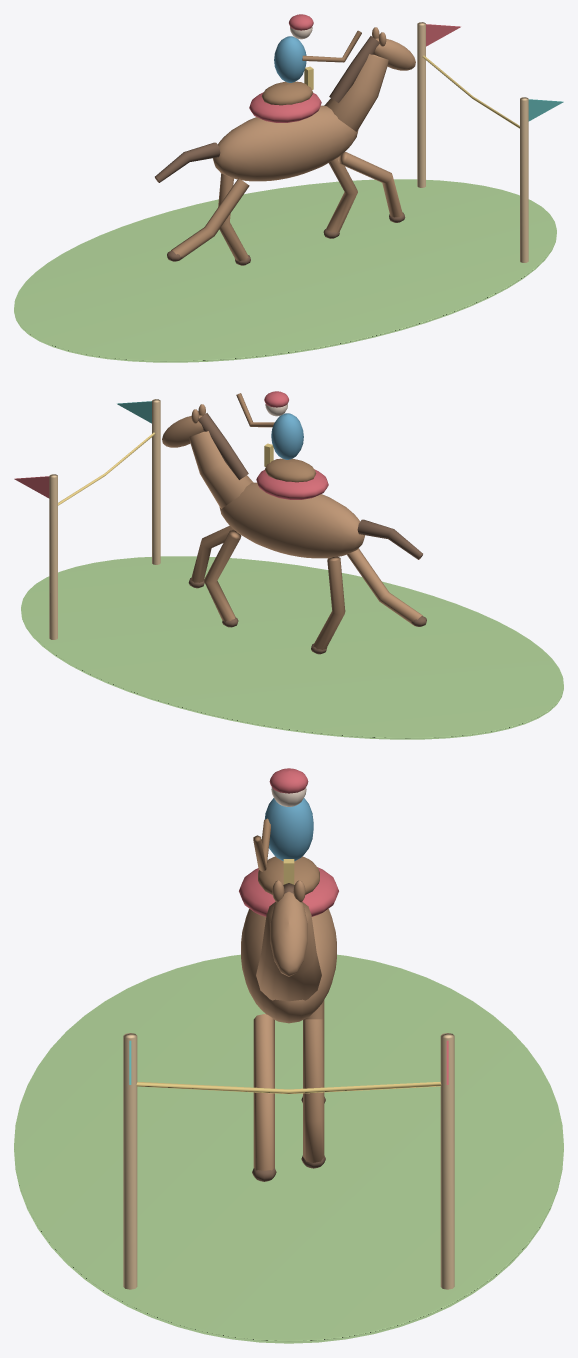
The model's file is baige.glb.
3 views of the same model, one above another, from view 1: azimuth 30°, elevation 25°; view 2: azimuth 150°, elevation 25°; view 3: azimuth 270°, elevation 25° (orthographic). The views are drawn at different scales.
Parts seen in each view (by area): view 1: ground, horse-body, leg (×4), post (×2), neck, saddle-cloth, rider, saddle, mane, tail, head, flag; view 2: ground, horse-body, leg (×4), post (×2), neck, saddle-cloth, rider, saddle, mane, tail, head, flag; view 3: ground, post (×2), leg (×2), horse-body, neck, head, rider, saddle-cloth, ribbon, saddle, rider-cap.
Part boxes in pixels (x1,y1,x2,y2): ground: (14,179,556,362); horse-body: (213,105,358,181); leg (×4): (171,152,402,261); post (×2): (417,22,528,262); neck: (324,54,388,131); saddle-cloth: (249,92,321,122); rider: (274,36,306,82); saddle: (261,81,312,105); mane: (329,36,379,102); tail: (155,142,220,182); head: (374,38,415,70); flag: (528,99,563,121); ground: (21,556,563,739); horse-body: (219,482,364,558); leg (×4): (191,525,422,649); post (×2): (49,399,160,639); neck: (189,431,253,508); saddle-cloth: (256,469,328,499); rider: (271,413,303,459); saddle: (265,458,316,482); mane: (198,413,248,479); tail: (357,519,422,559); head: (162,415,203,447); flag: (14,476,49,498); ground: (14,954,563,1343); post (×2): (123,1033,454,1289); leg (×2): (253,1014,324,1170); horse-body: (241,909,336,1023); neck: (256,901,321,1001); head: (270,891,307,976); rider: (264,798,313,861); saddle-cloth: (239,867,338,916); ribbon: (136,1081,441,1094); saddle: (258,856,319,894); rider-cap: (269,768,308,793).
Size of the model in its own units: 5.2 by 2.45 by 3.12.
